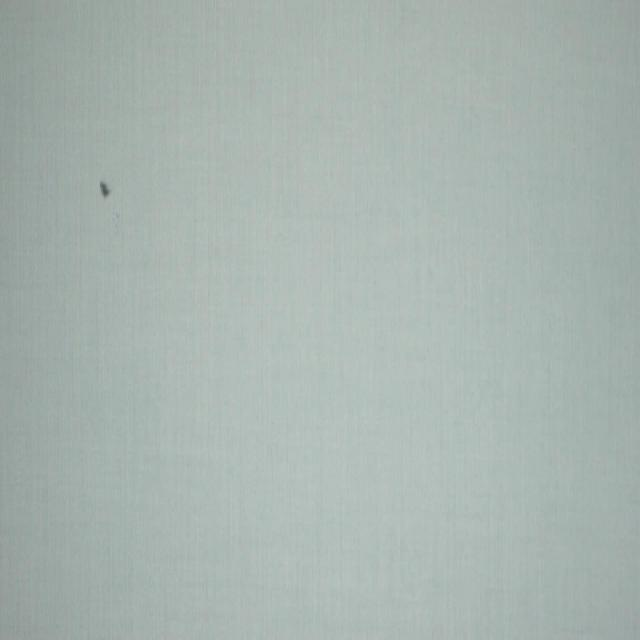dirty: (101, 182, 110, 199)
